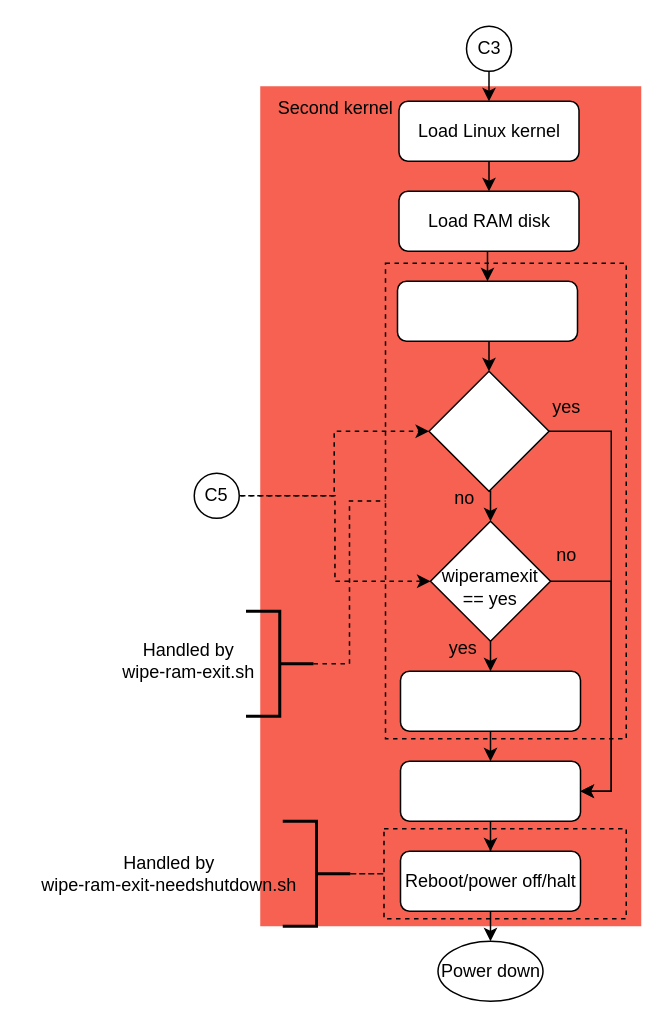
The diagram is 666 pixels wide and 1028 high, and some of its shapes have lost their labels. The centre of each missing label's shape, as x and y in pixels:
Second WAP wipe pass: the point at 489,700
Start dracut pre-trigger hook: the point at 489,790
Start dracut pre-udev hook: the point at 487,310
wiperamexit == no: the point at 488,430
